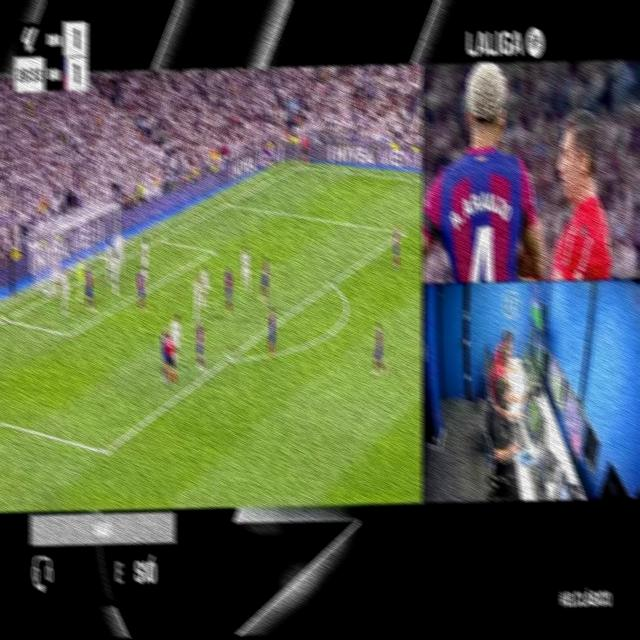bigarea_bottom_inner: (100, 439, 112, 465)
bigarea_top_inner: (398, 225, 404, 239)
bigarea_top_outter: (224, 195, 232, 209)
bottom_arc_area_intersection: (224, 347, 236, 367)
corner: (292, 160, 304, 170)
smallarea_bottom_inner: (64, 323, 74, 345)
smallarea_bottom_outter: (0, 309, 12, 327)
smallarea_top_inner: (208, 242, 216, 259)
smallarea_top_outter: (154, 230, 162, 247)
top_arc_area_intersection: (326, 275, 336, 291)
